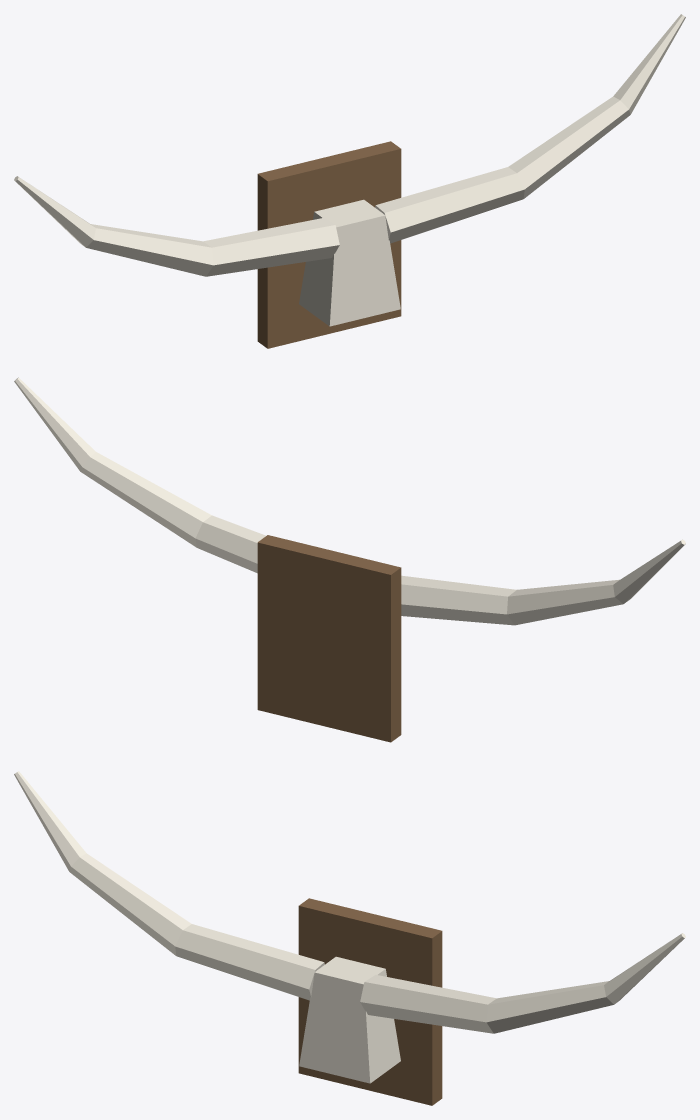
File: SM_Horns_Wall.glb
3 views of the same model, one above another, from view 1: azimuth 30°, elevation 25°; view 2: azimuth 150°, elevation 25°; view 3: azimuth 330°, elevation 25° (orthographic).
Visible parts, largest first — view 1: SM_Horns_Wall; view 2: SM_Horns_Wall; view 3: SM_Horns_Wall.
Boxes of the visible parts, bbox=[...] form: SM_Horns_Wall: bbox=[14, 14, 685, 348]; SM_Horns_Wall: bbox=[14, 377, 685, 742]; SM_Horns_Wall: bbox=[14, 771, 685, 1105].
Size of the model in its own units: 1.51 by 0.5339 by 0.175.
